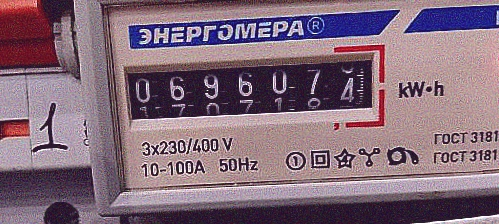0: (132, 74, 152, 104), (268, 67, 288, 94)
4: (336, 75, 356, 104)
6: (235, 68, 254, 97), (166, 73, 185, 101)
7: (303, 65, 323, 96)
9: (200, 72, 219, 101)
screen: (110, 40, 393, 140)
